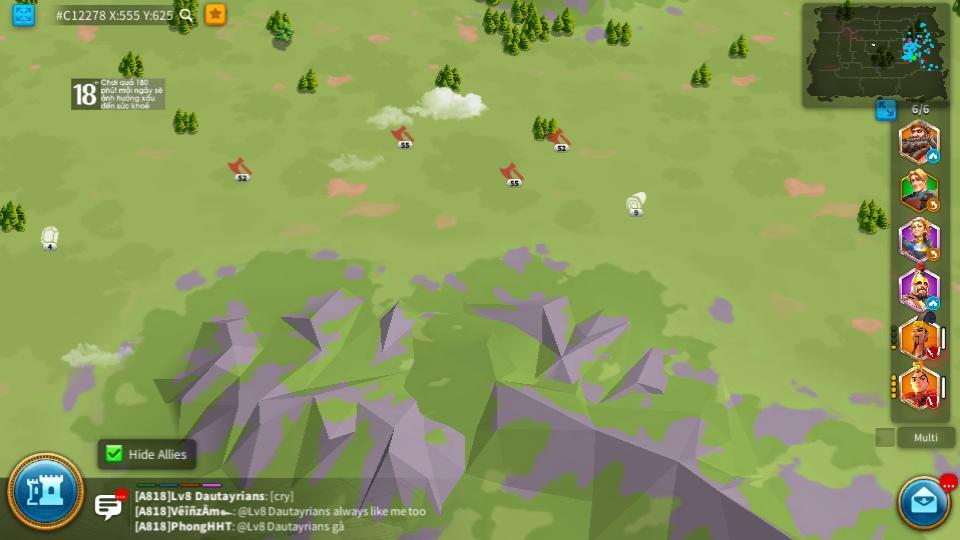gem-z-out: (37, 225, 61, 248)
march_attacking: (923, 395, 939, 407), (924, 349, 938, 359)
march_idle: (926, 151, 940, 162), (925, 297, 938, 307)
march_returning: (926, 248, 941, 261), (927, 201, 940, 212)
